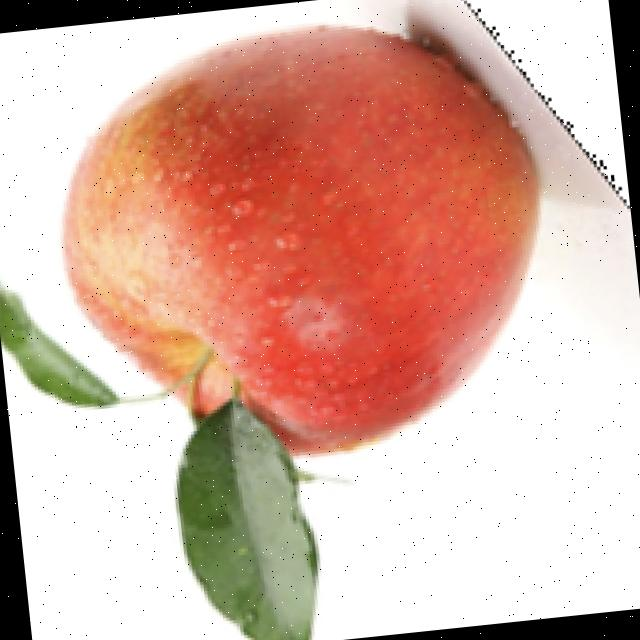apple: (55, 0, 626, 640)
